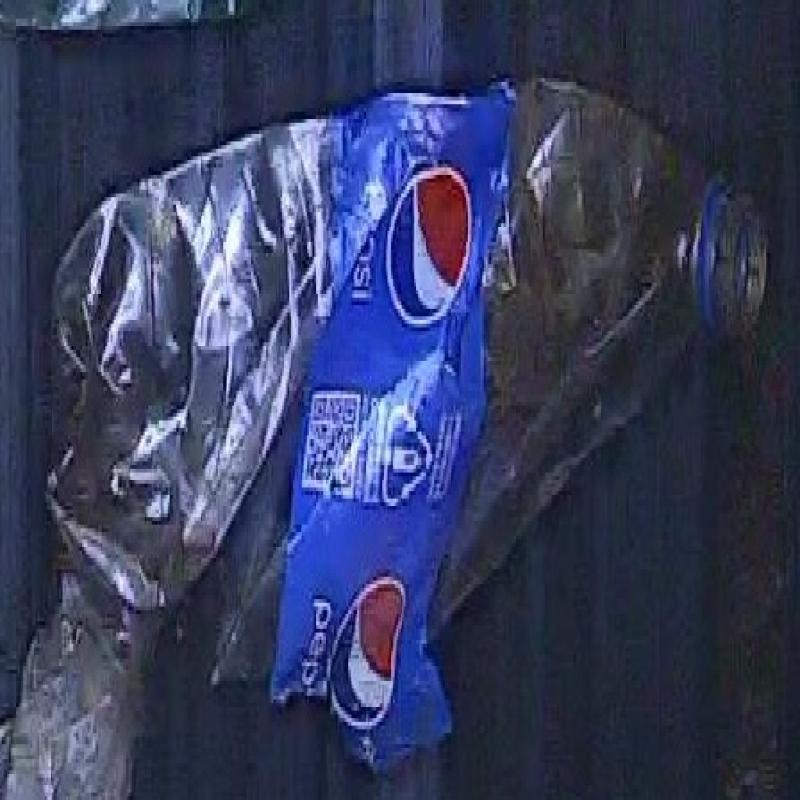botella: (54, 59, 772, 764)
